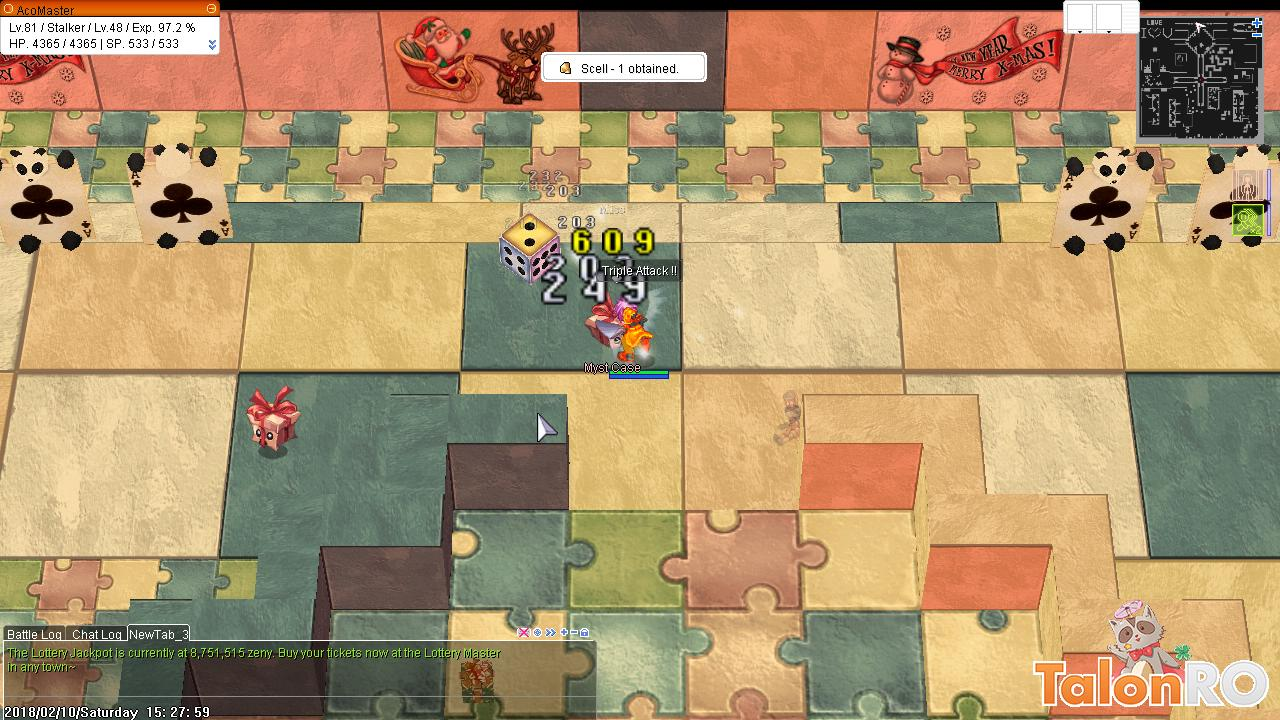myst_case: (246, 385, 305, 457), (581, 292, 628, 349)
